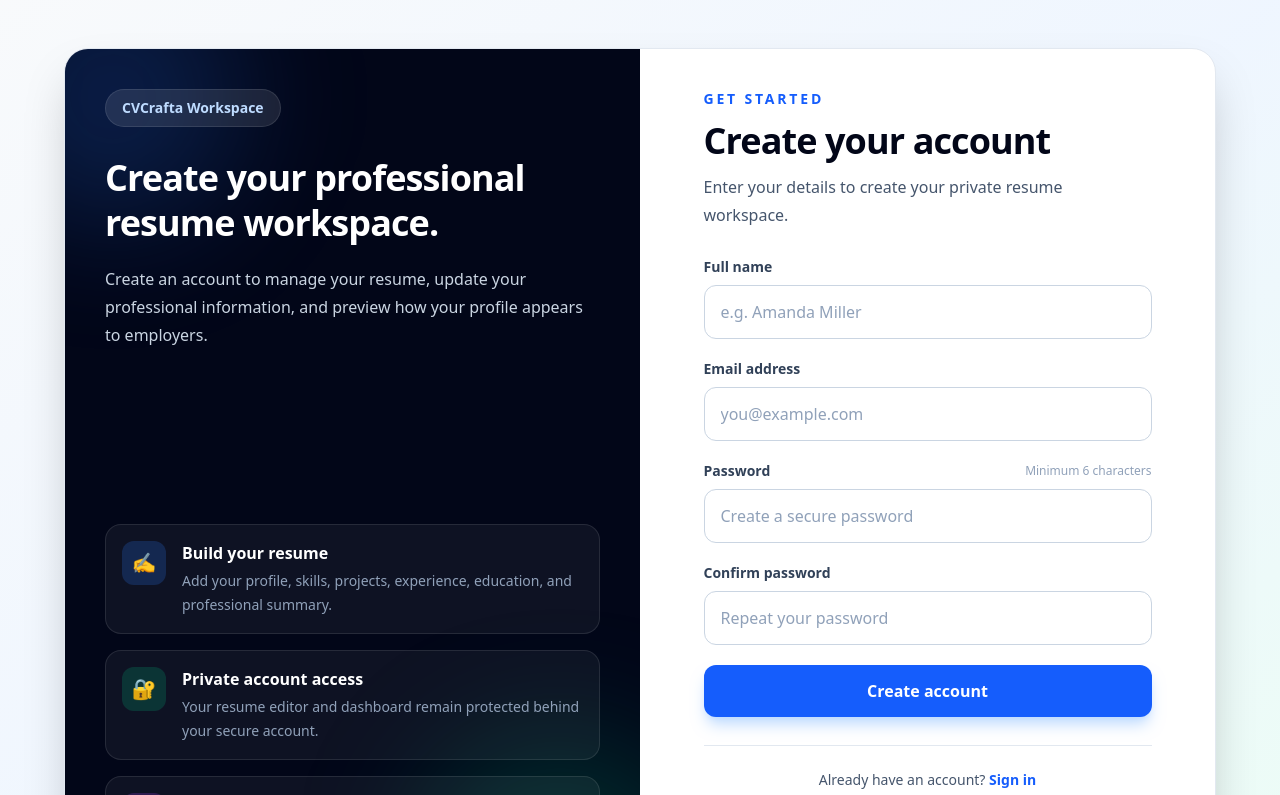
Scenario: RegisterPage › displays a friendly message when the email already exists
The width and height of the screenshot is (1280, 795).
Type "Test User" into the field labelled "Full name" at (928, 312), box [704, 285, 1152, 339]
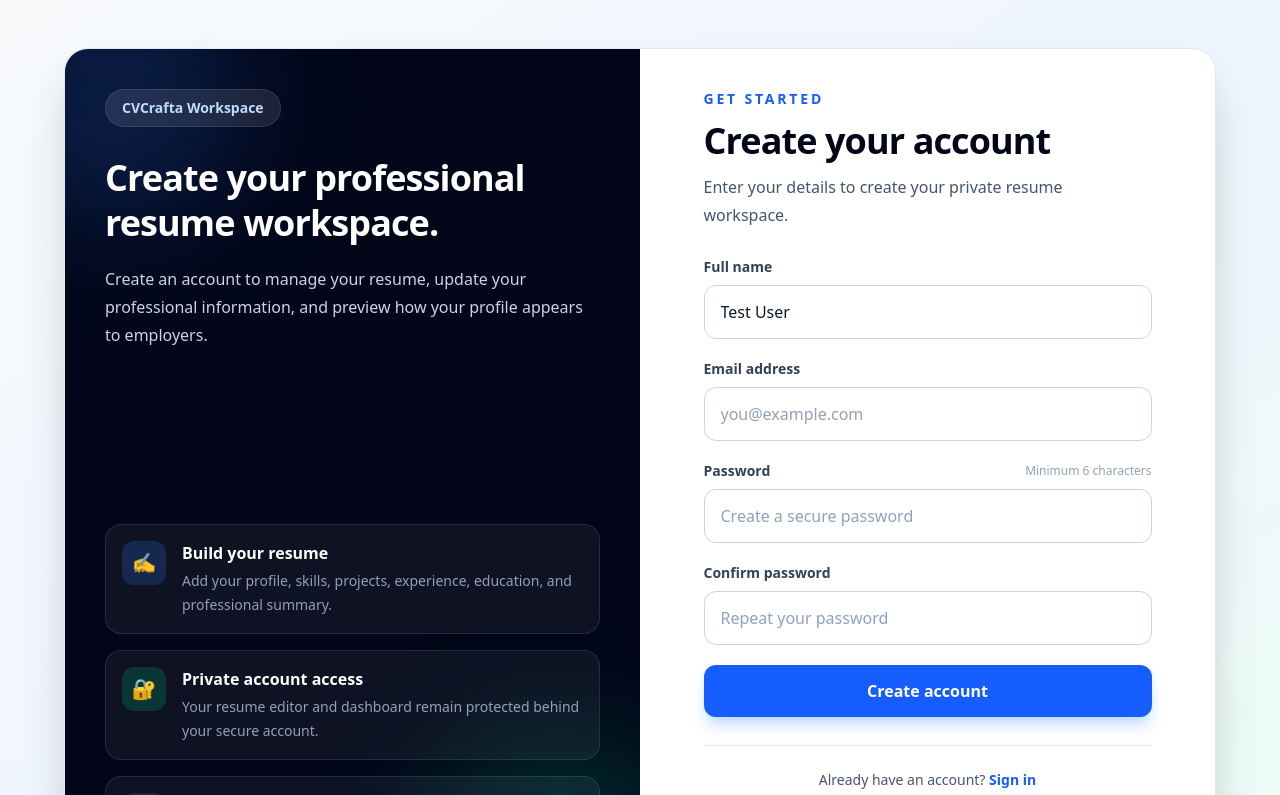
Type "user@example.com" into the field labelled "Email address" at (928, 414), box [704, 387, 1152, 441]
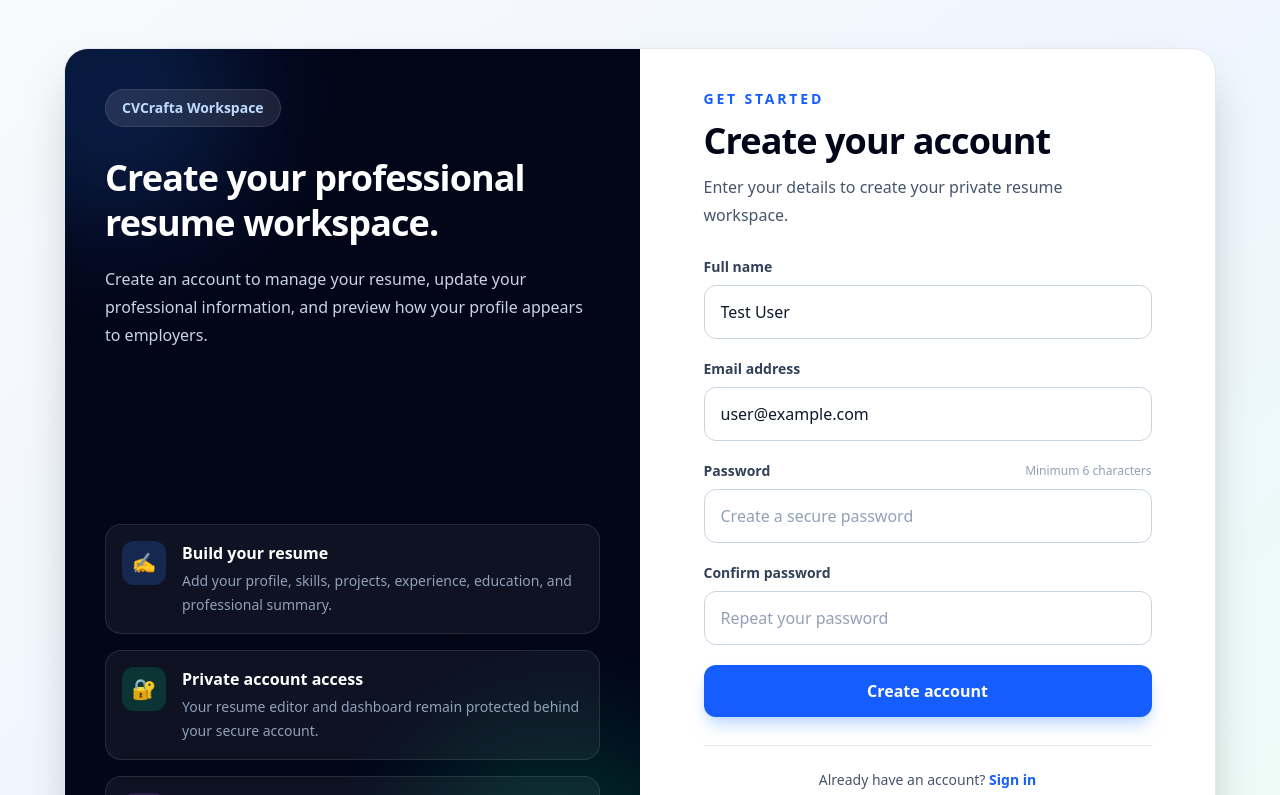
Type "Password123!" into the password field labelled "Password" at (928, 516), box [704, 489, 1152, 543]
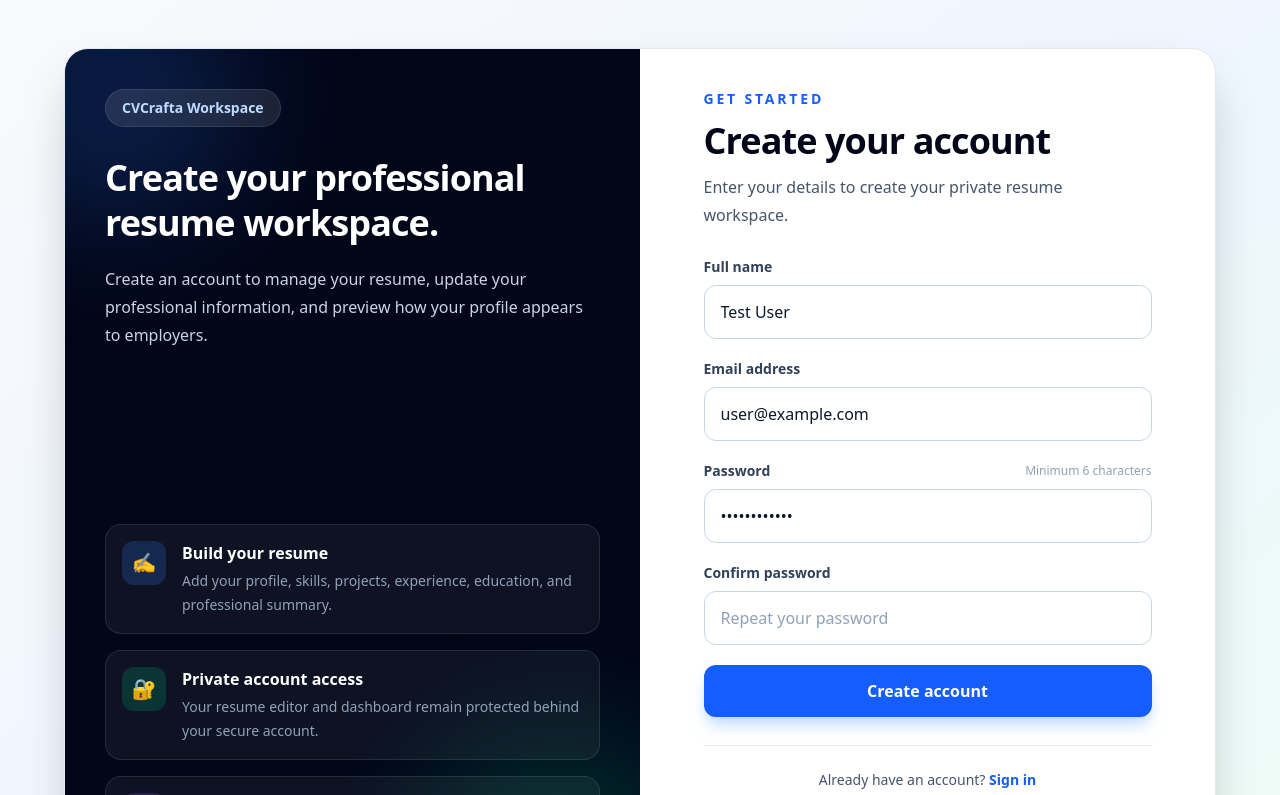
Type "Password123!" into the password field labelled "Confirm password" at (928, 618), box [704, 591, 1152, 645]
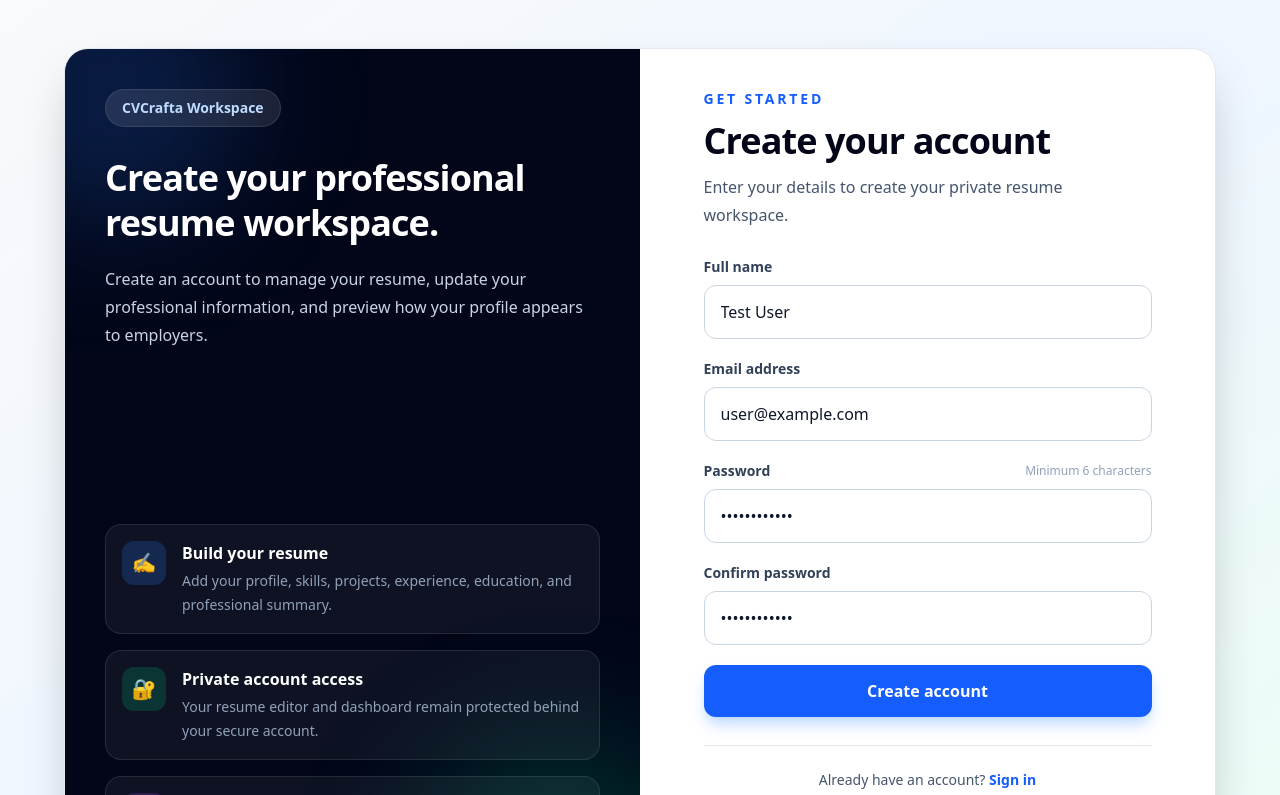
Submit the form named "Create account", box [704, 257, 1152, 717]
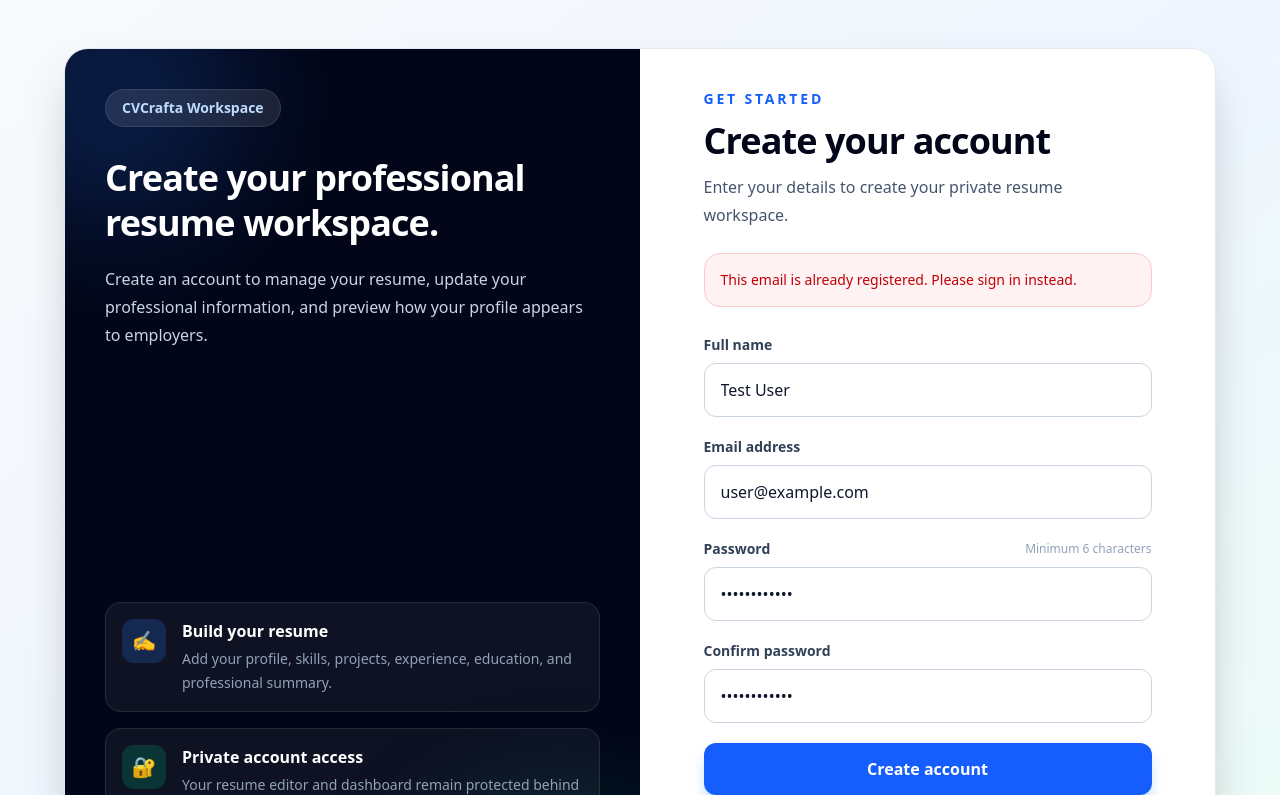
Check: the message reads "This email is already registered. Please sign in instead.", box [720, 270, 1077, 289]
